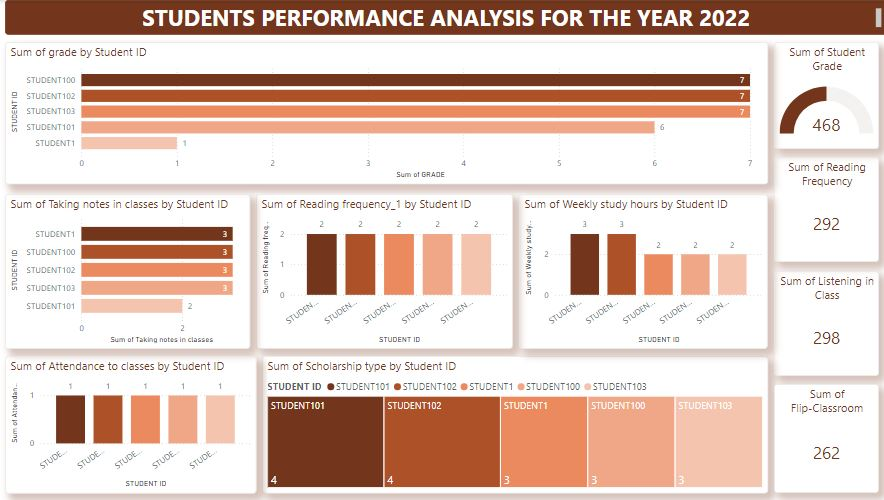

The page's visual inventory and layout, read from the dashboard file:
{"tool":"powerbi","page":{"name":"Page 1","canvas":[1280,720],"ordinal":0},"visuals":[{"type":"textbox","box":[10.9,0,1270.1,50.4],"z":0},{"type":"barChart","title":"Sum of grade by Student ID","fields":{"Category":["StudentsPerformance_with_headers.STUDENT ID"],"Y":["Sum(StudentsPerformance_with_headers.GRADE)"]},"box":[10.9,60.3,1099.1,205.1],"z":1000},{"type":"columnChart","title":"Sum of Reading frequency_1 by Student ID","fields":{"Category":["StudentsPerformance_with_headers.STUDENT ID"],"Y":["Sum(StudentsPerformance_with_headers.Reading frequency_1)"]},"box":[372.8,278.7,370.4,223.2],"z":2000},{"type":"treemap","title":"Sum of Scholarship type by Student ID","fields":{"Group":["StudentsPerformance_with_headers.STUDENT ID"],"Values":["Sum(StudentsPerformance_with_headers.Scholarship type)"]},"box":[381.2,512.7,728.7,197.9],"z":3000},{"type":"barChart","title":"Sum of Taking notes in classes by Student ID","fields":{"Category":["StudentsPerformance_with_headers.STUDENT ID"],"Y":["Sum(StudentsPerformance_with_headers.Taking notes in classes)"]},"box":[10.9,278.7,353.5,223.2],"z":4000},{"type":"columnChart","title":"Sum of Attendance to classes by Student ID","fields":{"Category":["StudentsPerformance_with_headers.STUDENT ID"],"Y":["Sum(StudentsPerformance_with_headers.Attendance to classes)"]},"box":[10.9,512.7,361.9,197.9],"z":5000},{"type":"columnChart","title":"Sum of Weekly study hours by Student ID","fields":{"Category":["StudentsPerformance_with_headers.STUDENT ID"],"Y":["Sum(StudentsPerformance_with_headers.Weekly study hours)"]},"box":[751.6,278.7,358.3,223.2],"z":6000},{"type":"gauge","title":"Sum of Student Grade","fields":{"Y":["Sum(StudentsPerformance_with_headers.GRADE)"]},"box":[1118.9,60.5,151.2,154.1],"z":7000},{"type":"card","title":"Sum of Reading Frequency","fields":{"Values":["Sum(StudentsPerformance_with_headers.Reading frequency_1)"]},"box":[1118.9,226.1,151.2,151.2],"z":8000},{"type":"card","title":"Sum of Listening in Class","fields":{"Values":["Sum(StudentsPerformance_with_headers.Listening in classes)"]},"box":[1118.9,390.2,151.2,151.2],"z":9000},{"type":"card","title":"Sum of Flip-Classroom","fields":{"Values":["Sum(StudentsPerformance_with_headers.Flip-classroom)"]},"box":[1118.9,553,151.2,157],"z":10000}]}

Visuals, with their boxes in screenshot pixels (x1, y1, x2, y2), scaled from the page's 1280x720 canvas onto the 884x500 screenshot:
textbox: 8,0,883,35
"Sum of grade by Student ID" barChart: 8,42,767,184
"Sum of Reading frequency_1 by Student ID" columnChart: 257,194,513,349
"Sum of Scholarship type by Student ID" treemap: 263,356,767,493
"Sum of Taking notes in classes by Student ID" barChart: 8,194,252,349
"Sum of Attendance to classes by Student ID" columnChart: 8,356,257,493
"Sum of Weekly study hours by Student ID" columnChart: 519,194,767,349
"Sum of Student Grade" gauge: 773,42,877,149
"Sum of Reading Frequency" card: 773,157,877,262
"Sum of Listening in Class" card: 773,271,877,376
"Sum of Flip-Classroom" card: 773,384,877,493
